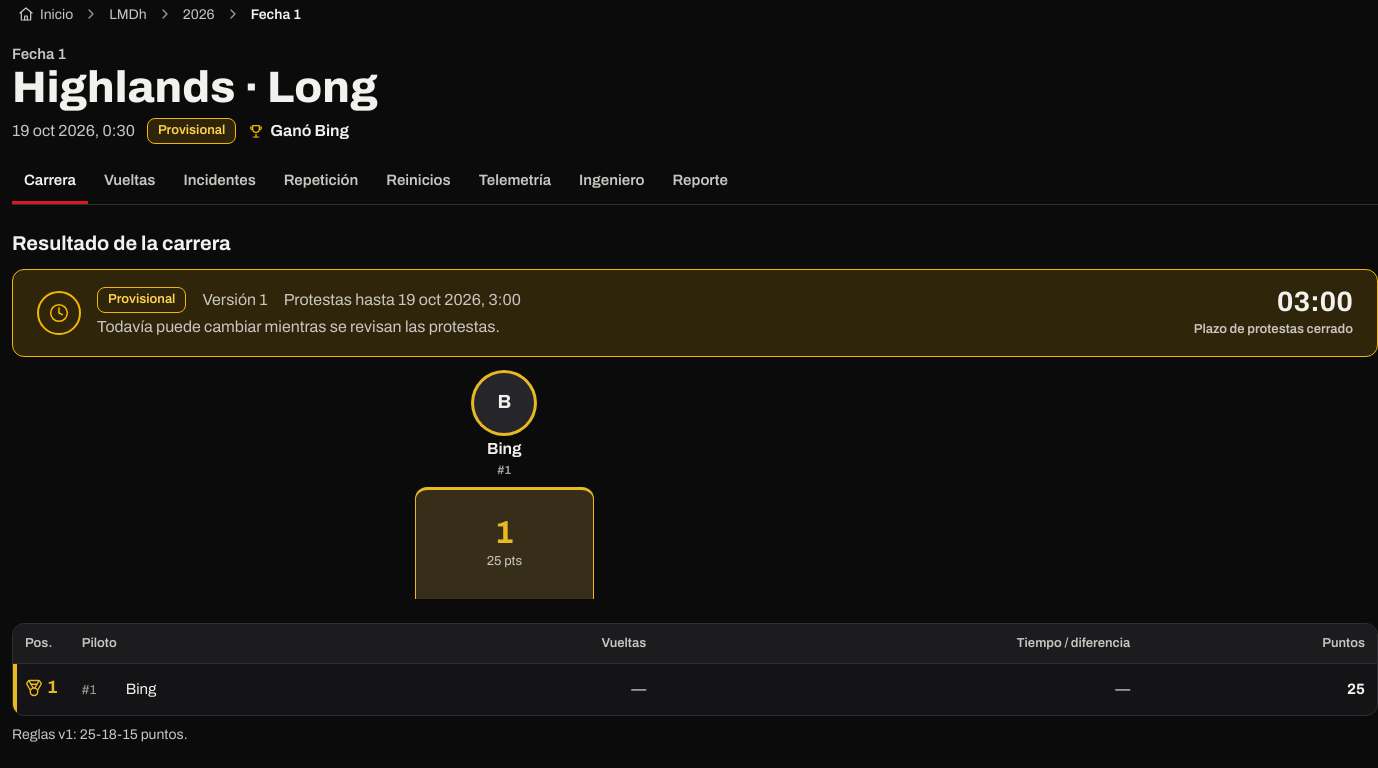
Test: RoundPage › opens the analysis in tabs and keeps the race tab first
Check: the table is shown, box [13,624,1377,714]
Click the button "Reinicios": (418,182) [374,160,463,204]
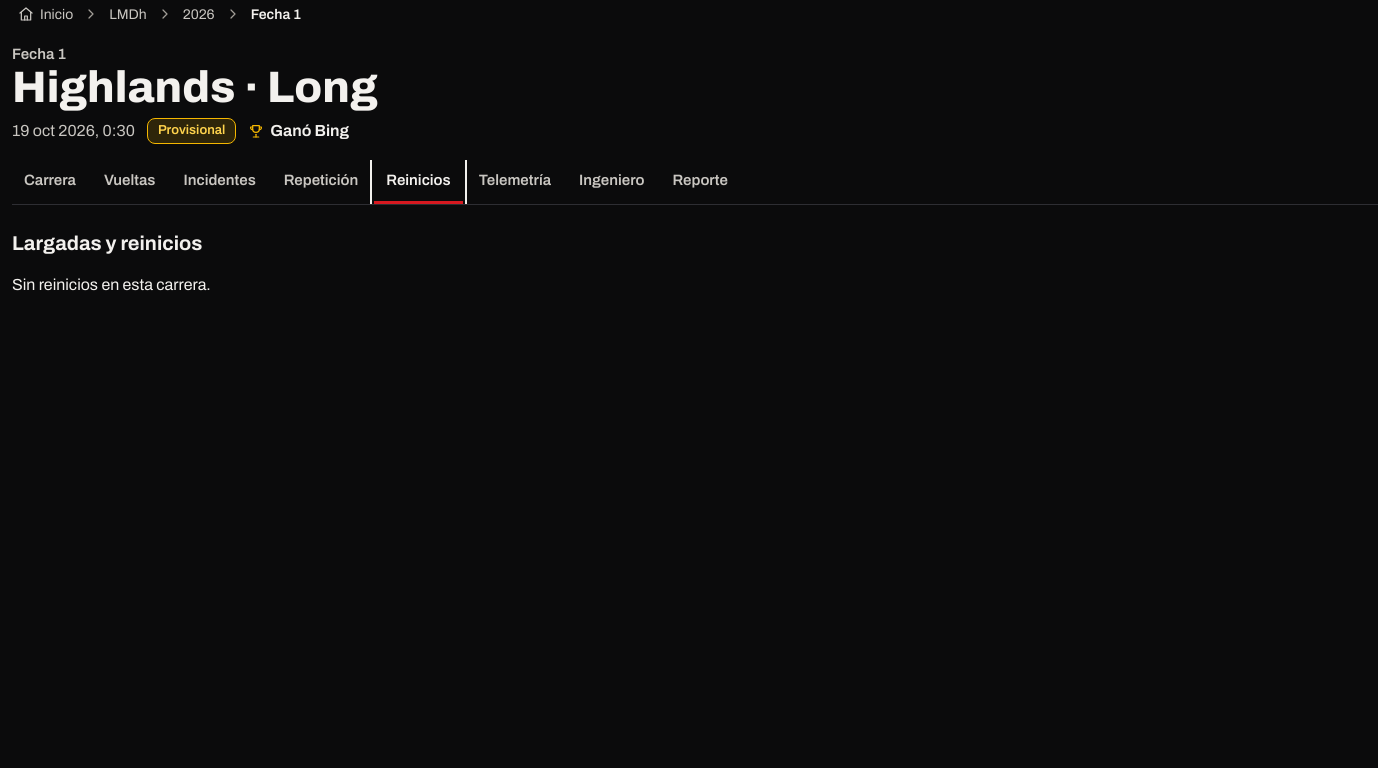
Check: the table is gone
